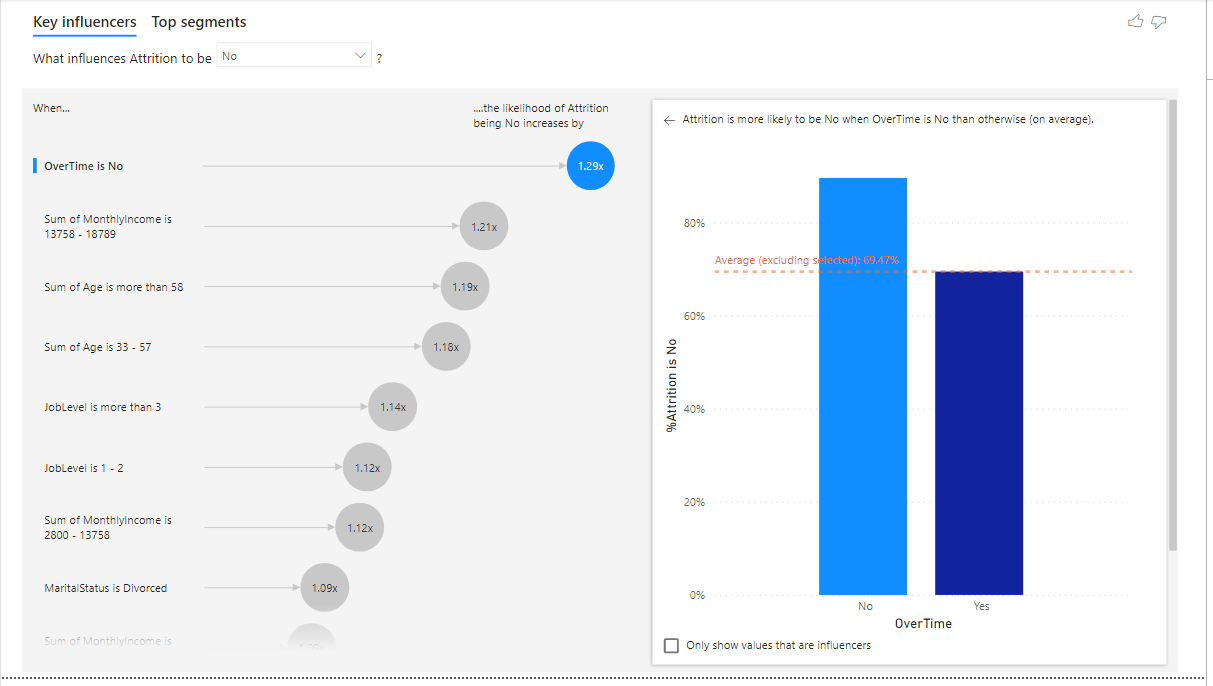

The dashboard page shown, as its layout file describes it:
{"tool":"powerbi","page":{"name":"Key Influencers","canvas":[1280,720],"ordinal":4},"visuals":[{"type":"keyDriversVisual","fields":{"Target":["Attrition.Attrition"],"ExplainBy":["Attrition.MaritalStatus","Attrition.OverTime","Attrition.JobLevel","Sum(Attrition.MonthlyIncome)","Sum(Attrition.Age)"]},"box":[17,0,1237.5,720.2],"z":0}]}

Visuals, with their boxes in screenshot pixels (x1, y1, x2, y2), scaled from the page's 1280x720 canvas onto the 1213x686 screenshot:
keyDriversVisual - Attrition.Attrition x Attrition.MaritalStatus: region(16, 0, 1189, 685)
